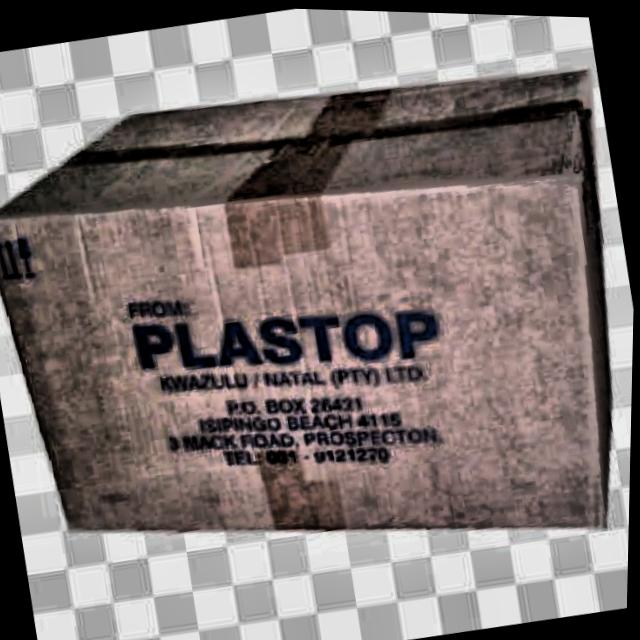Cardbox: (0, 5, 640, 640)
